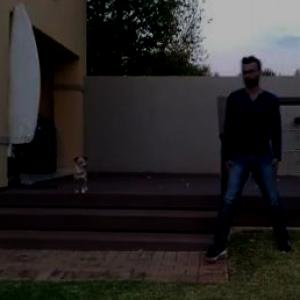follow: (229, 56, 287, 243)
